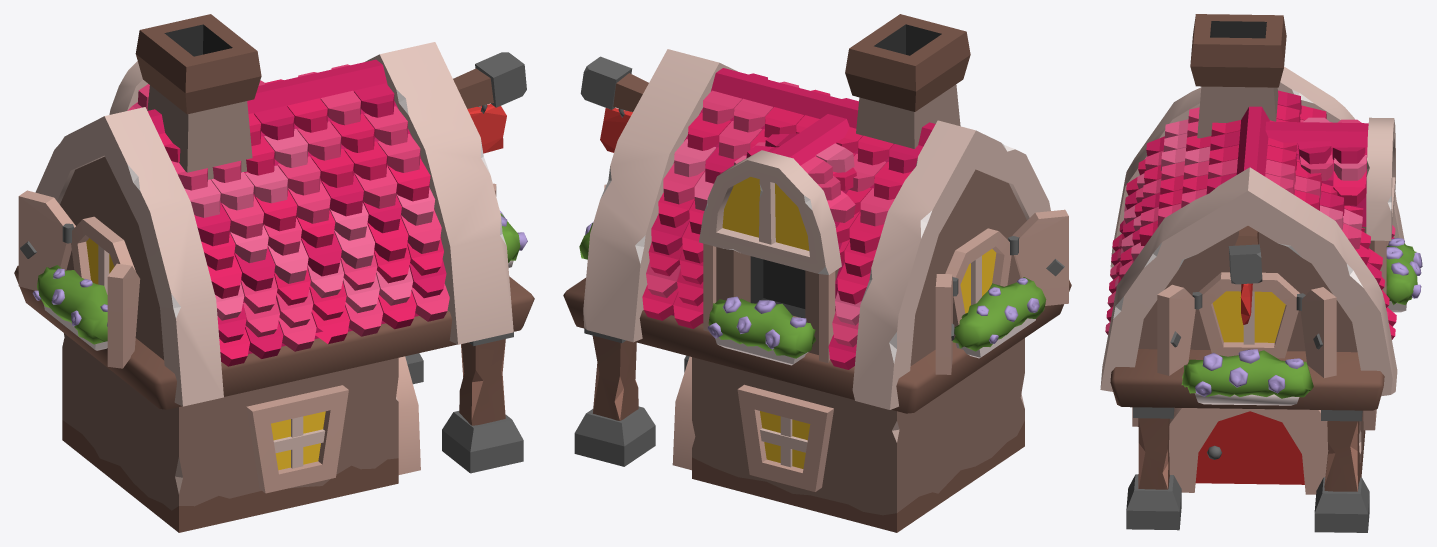
File: n4_house_002_lev4.004.glb
3 views of the same model, side by side, from view 1: azimuth 30°, elevation 25°; view 2: azimuth 150°, elevation 25°; view 3: azimuth 270°, elevation 25° (orthographic). The views are drawn at different scales.
Parts seen in each view (by area): view 1: n4_house_002_lev4.004; view 2: n4_house_002_lev4.004; view 3: n4_house_002_lev4.004.
Boxes of the visible parts, bbox=[...] form: n4_house_002_lev4.004: bbox=[14, 14, 534, 532]; n4_house_002_lev4.004: bbox=[563, 14, 1071, 532]; n4_house_002_lev4.004: bbox=[1100, 14, 1422, 532].
Bounding box in the file's own units: 11.21 × 10.33 × 7.79.
1 material, 1 textured.
